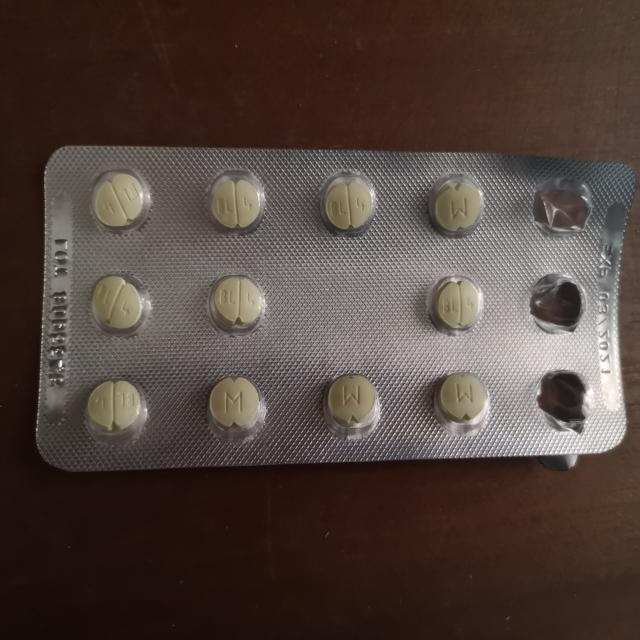Empty: (532, 362, 598, 436), (525, 268, 590, 338), (529, 172, 595, 240)
Pill: (315, 165, 386, 242), (421, 172, 499, 241), (85, 164, 157, 238), (81, 372, 152, 446), (203, 161, 271, 238), (85, 269, 152, 342), (203, 367, 270, 439), (424, 269, 491, 338), (322, 368, 386, 439), (431, 364, 495, 434), (204, 269, 270, 334)
